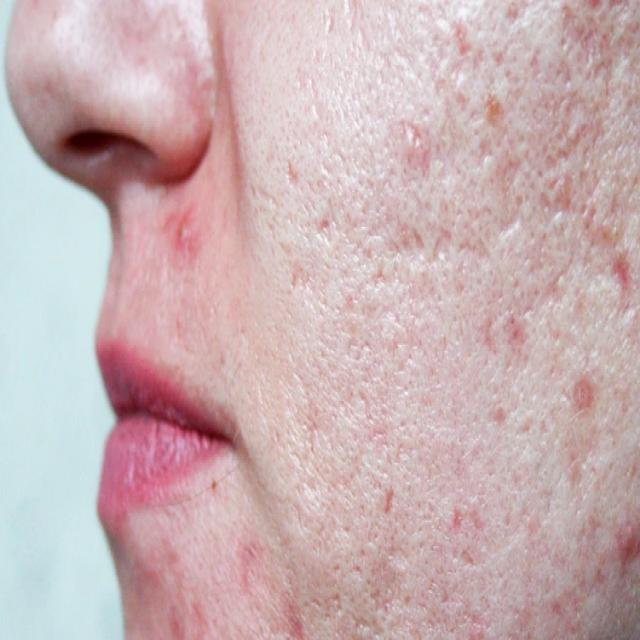Acne: (541, 163, 604, 230), (163, 576, 228, 636), (561, 4, 640, 53), (461, 575, 506, 640), (234, 518, 278, 584), (492, 294, 540, 348), (396, 122, 442, 178), (551, 95, 594, 151), (282, 594, 326, 640), (608, 507, 640, 567), (486, 385, 525, 432), (608, 235, 638, 296), (172, 220, 211, 262), (463, 494, 501, 537), (195, 52, 225, 104), (442, 76, 482, 115), (451, 18, 484, 62), (566, 373, 601, 412), (483, 89, 513, 127)
